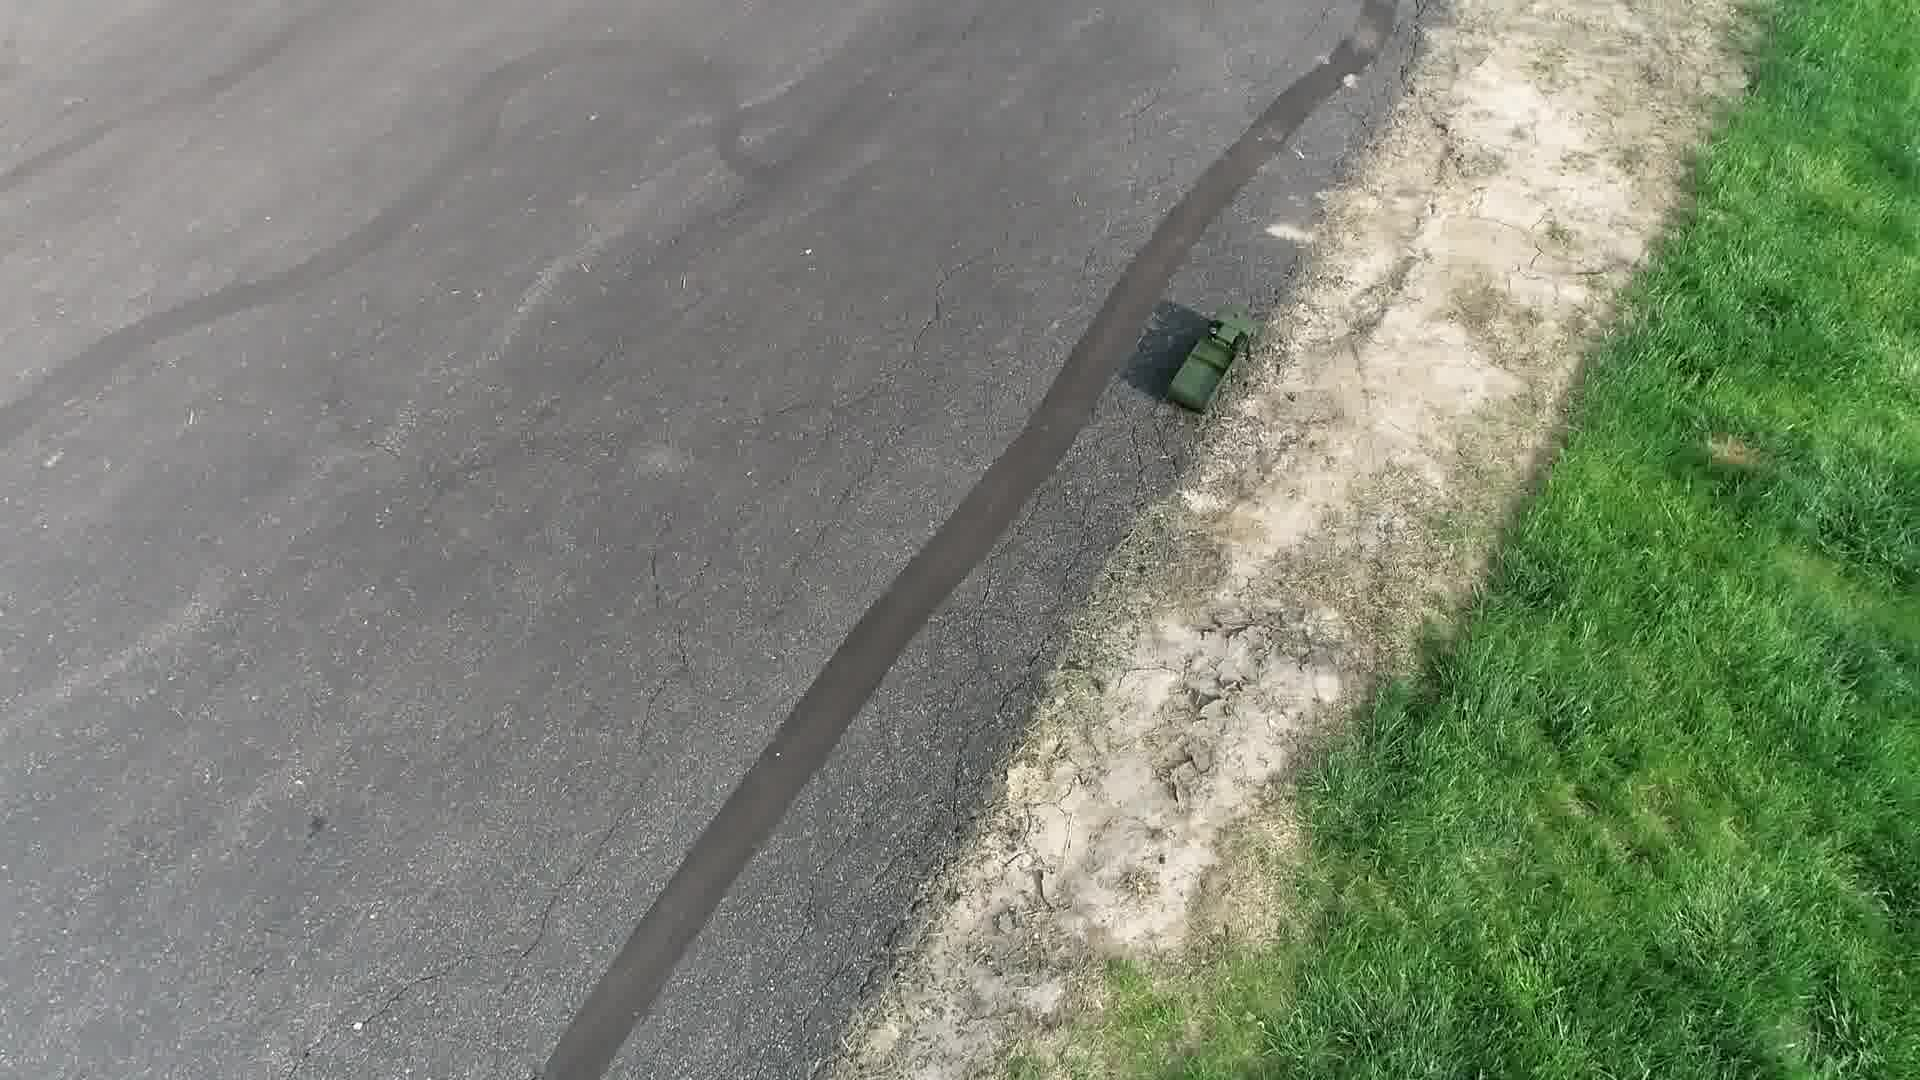transporter9: (1155, 314, 1255, 418)
